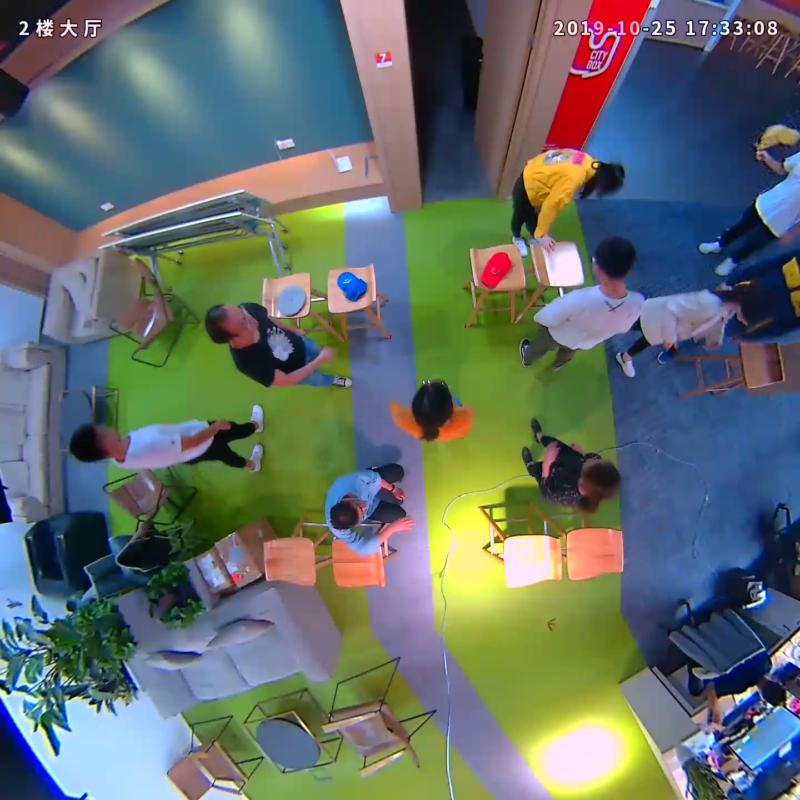head: (404, 378, 460, 443), (197, 300, 266, 352), (727, 282, 787, 339), (63, 419, 126, 471), (585, 235, 642, 290), (572, 450, 624, 502), (580, 153, 635, 201), (322, 495, 368, 536)
